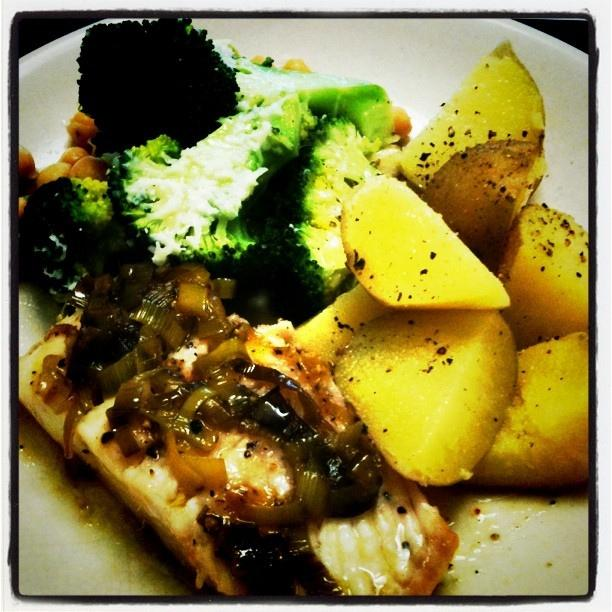broccoli: (102, 93, 302, 272), (76, 18, 240, 158), (270, 116, 382, 318), (214, 40, 396, 141), (19, 175, 128, 296)
onion: (232, 361, 322, 431), (249, 384, 317, 443), (324, 450, 383, 518), (192, 336, 252, 398), (144, 409, 220, 453), (129, 298, 187, 350), (114, 368, 181, 410), (166, 431, 206, 490), (294, 469, 330, 530), (144, 378, 208, 410), (96, 351, 136, 402), (63, 392, 92, 458), (179, 454, 228, 491), (238, 501, 304, 527), (32, 368, 72, 410), (180, 386, 220, 420), (174, 283, 211, 316), (177, 265, 210, 287), (198, 318, 226, 339), (195, 412, 204, 420)
potato: (333, 308, 517, 487), (340, 174, 511, 310), (394, 37, 546, 190), (451, 330, 589, 487), (308, 464, 460, 596), (423, 140, 540, 277), (497, 203, 588, 352), (286, 284, 400, 364)
